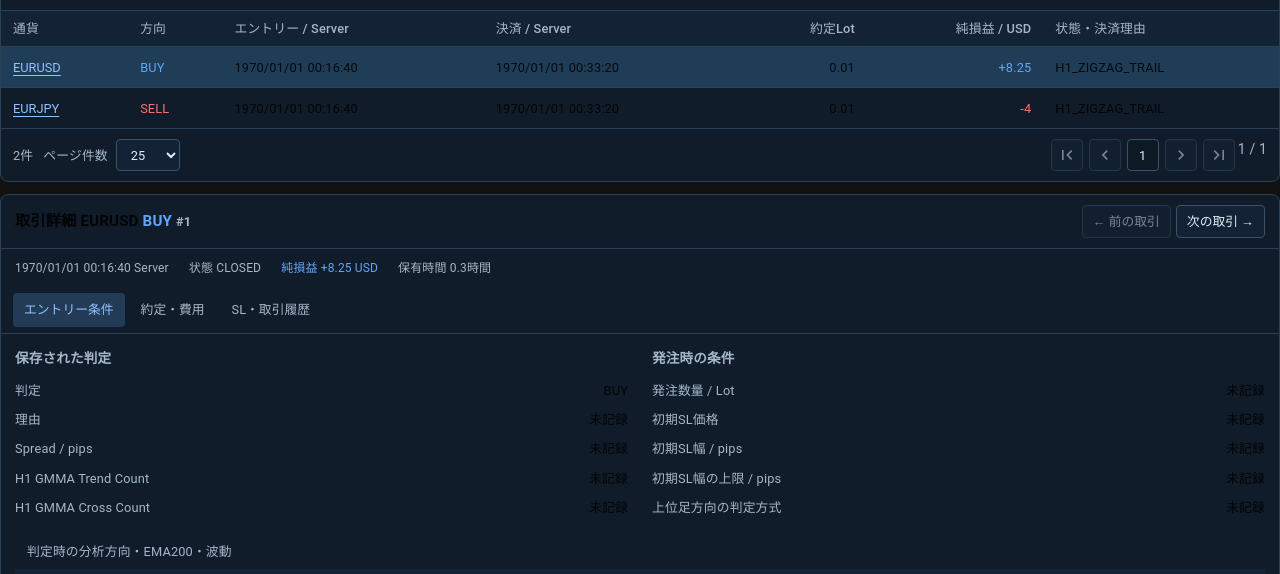
Test: H1 EA results › moves to the next detail and uses stored fee and stop-loss columns
(page scrolled)
Click the button "次の取引 →". click: click(1220, 222)
box: [1176, 205, 1265, 238]
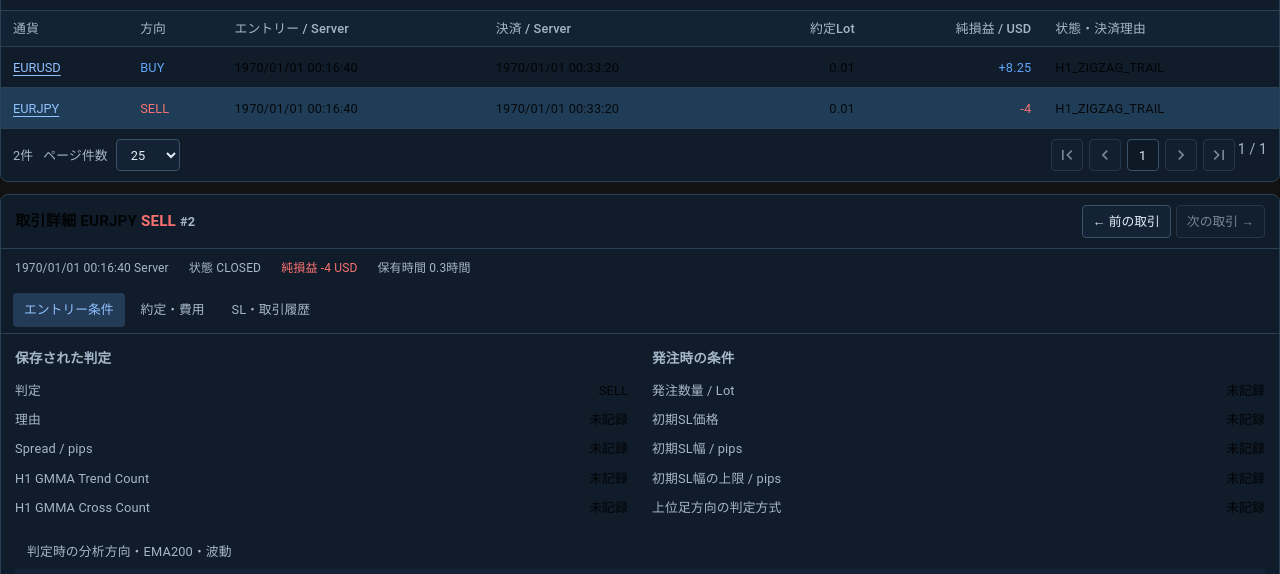
Expected: the text "#2" is shown, [180, 214, 195, 229]
Click the button "約定・費用". click: click(173, 310)
box: [130, 293, 216, 327]
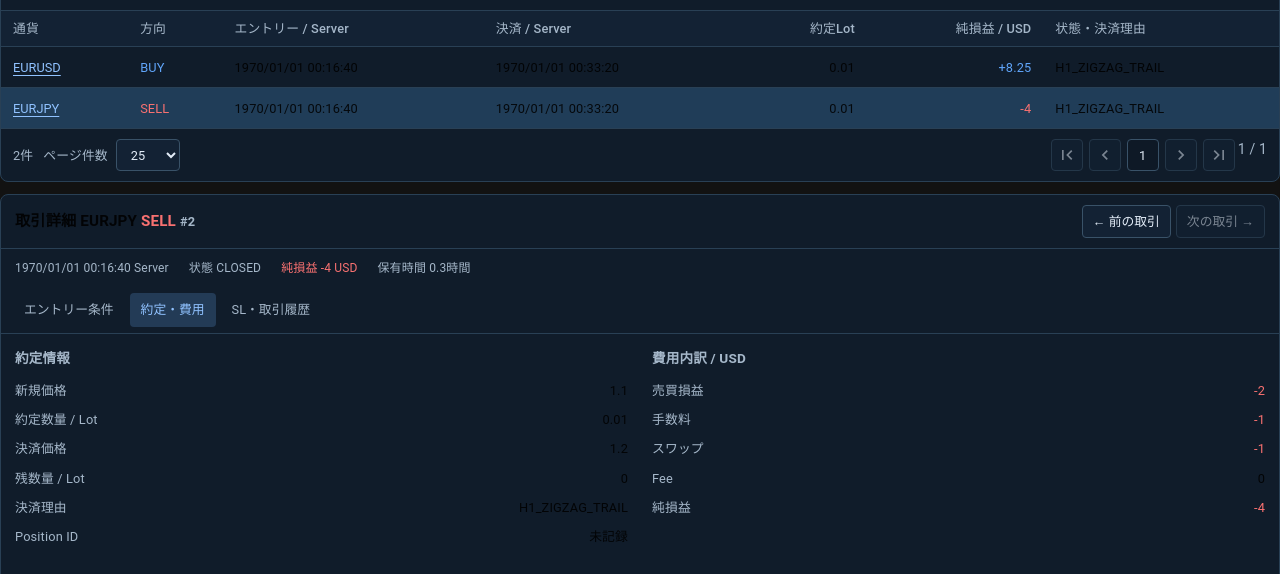
Click the button "SL・取引履歴". click: click(271, 310)
box: [221, 293, 321, 327]
(page scrolled)
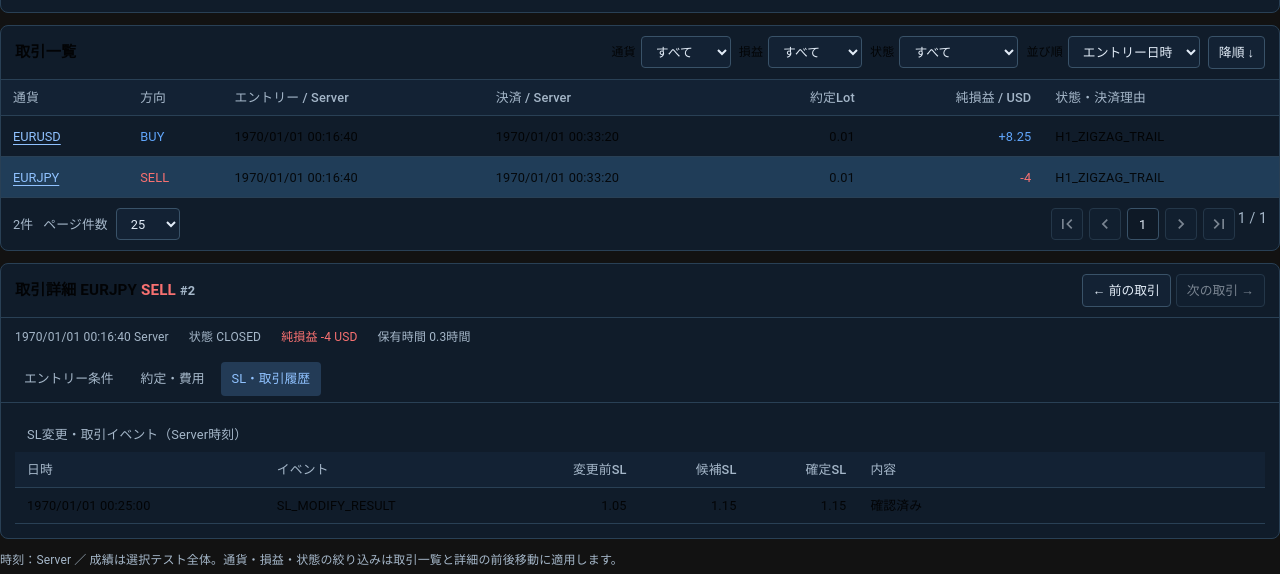
Expected: the text "1.15" is shown 2 times, [639, 488, 749, 524]; [749, 488, 858, 524]
Expected: the text "確認済み" is shown, [858, 488, 1265, 524]
